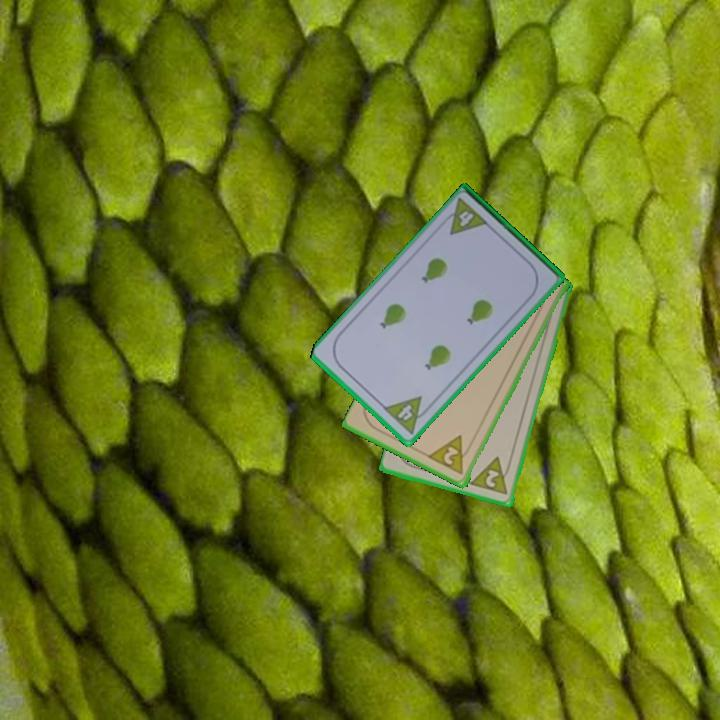2p: (426, 432, 475, 478), (468, 453, 515, 498)
4p: (380, 393, 434, 437), (437, 195, 492, 238)
